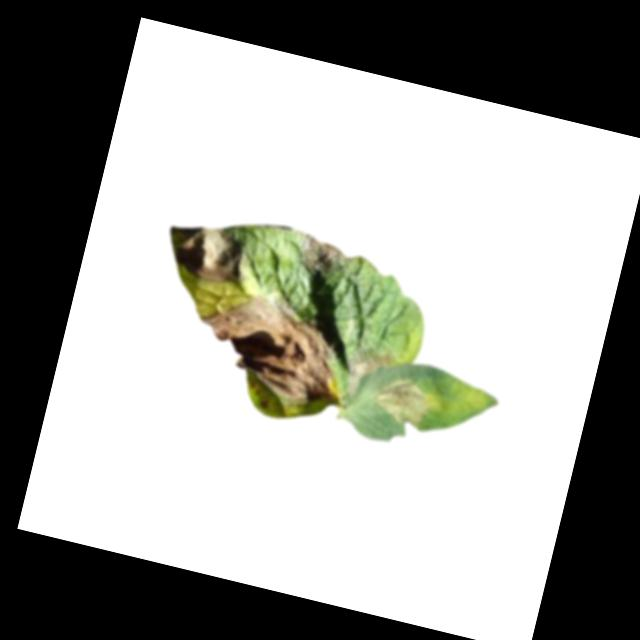Late_blight: (185, 282, 357, 413), (159, 216, 251, 288), (369, 371, 436, 431), (292, 228, 355, 281), (342, 343, 394, 403)
